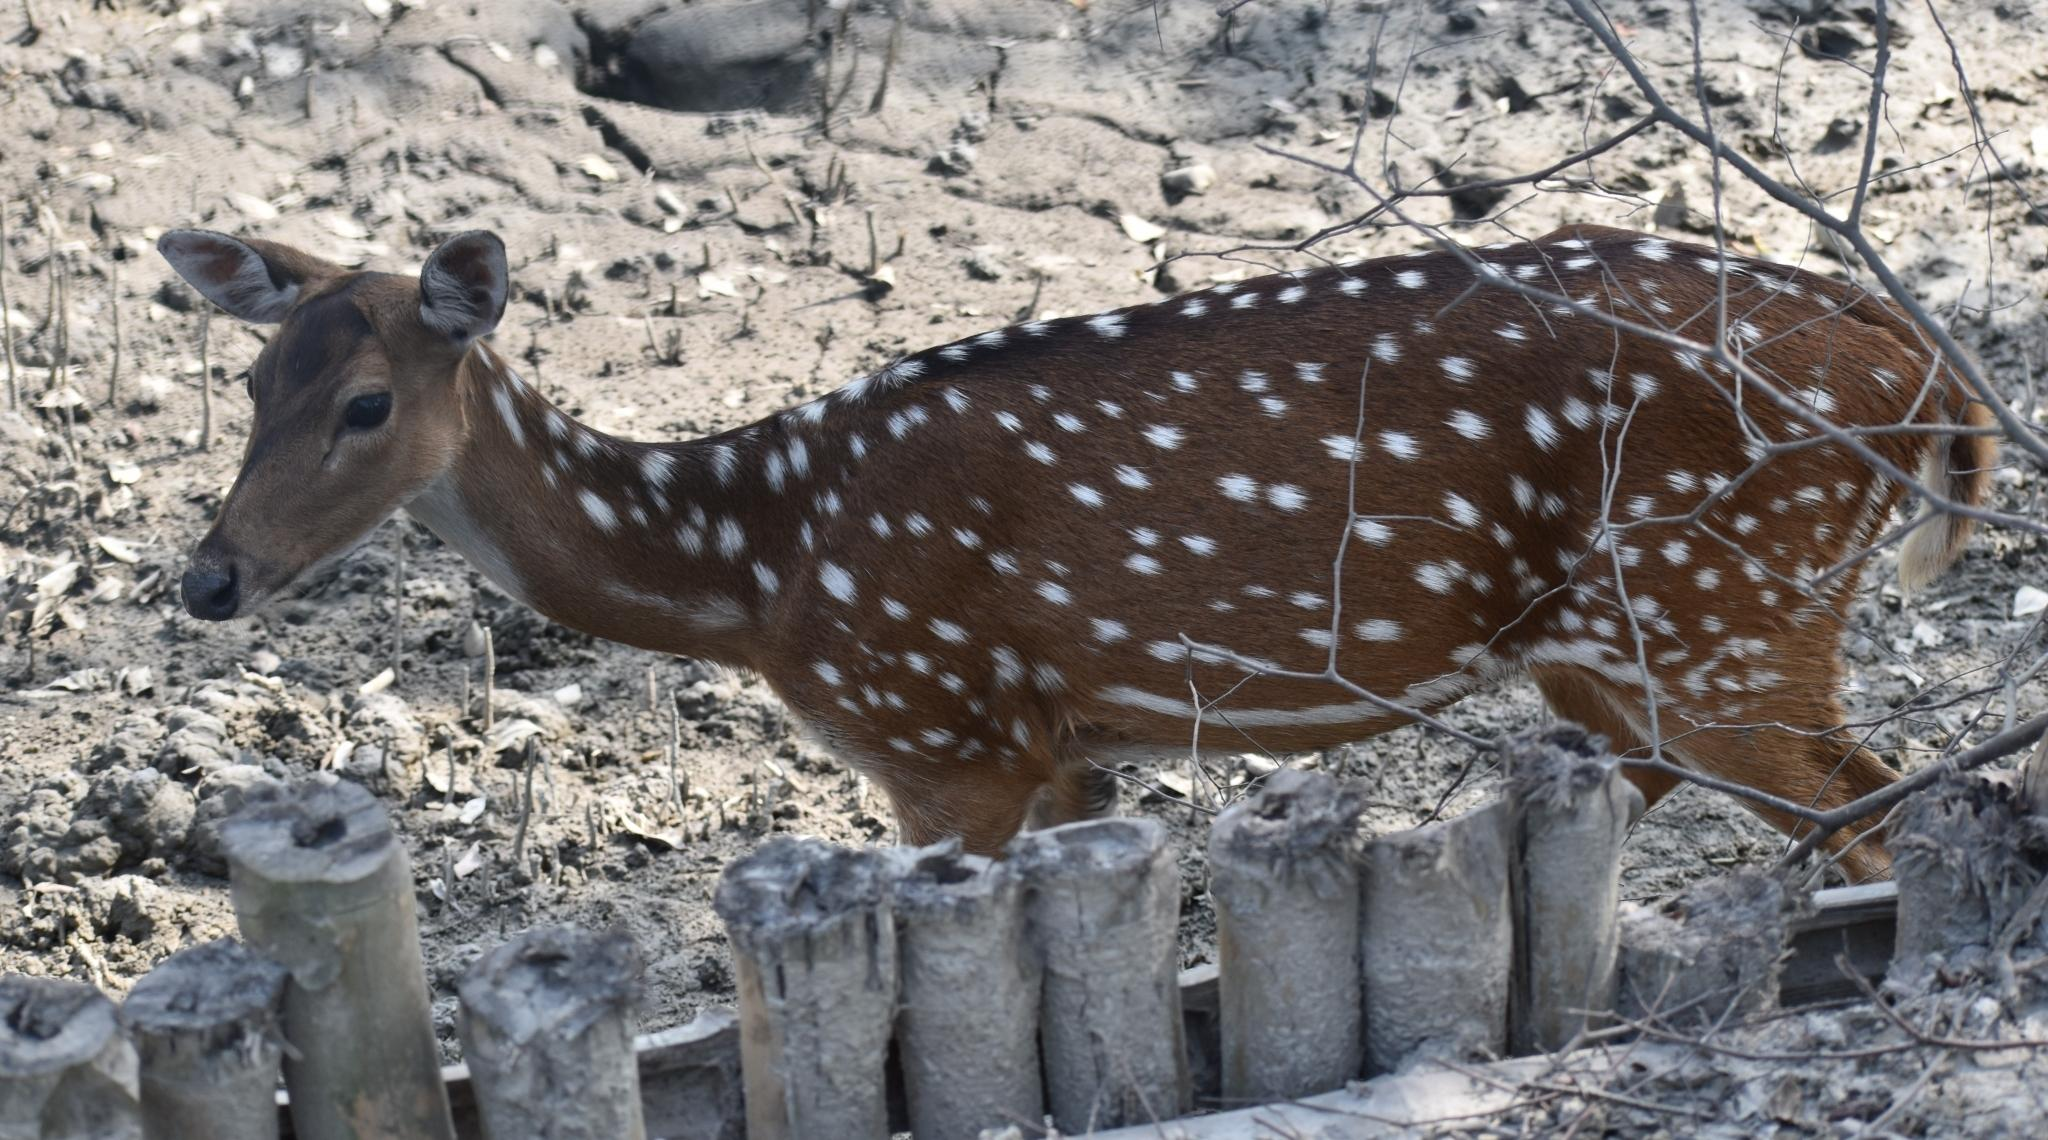Deer: (161, 225, 1997, 849)
